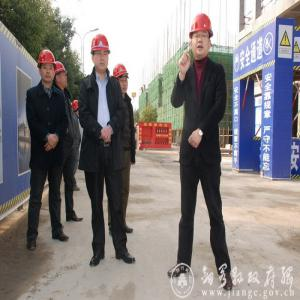red: (189, 16, 214, 62), (91, 35, 111, 75), (38, 48, 57, 86), (114, 63, 130, 97), (55, 61, 68, 89), (72, 100, 80, 114)
